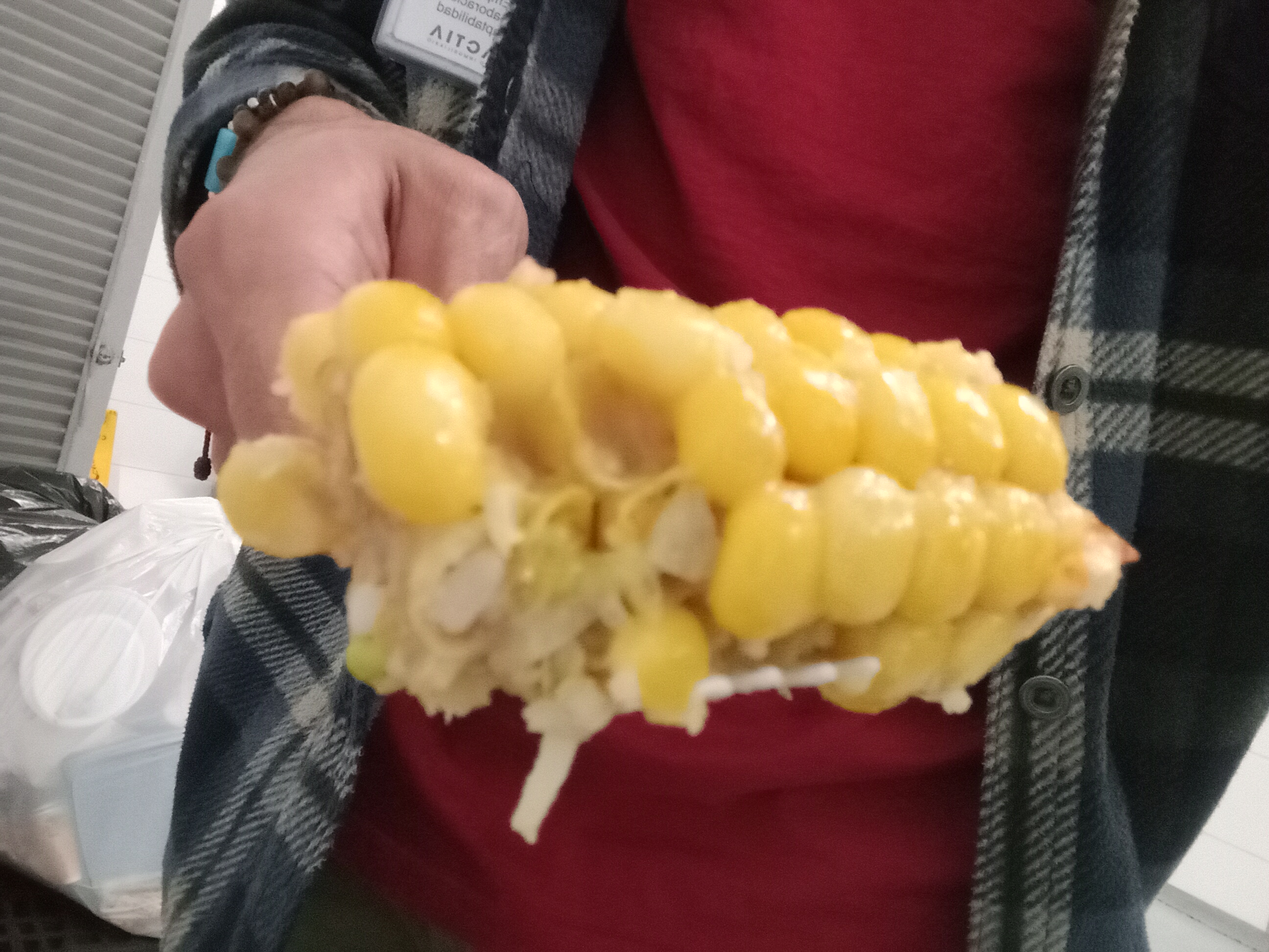Organico: (219, 276, 1138, 730)
